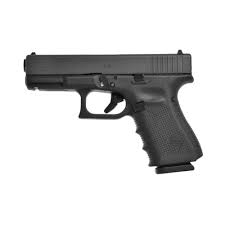weapon: (21, 48, 210, 175)
